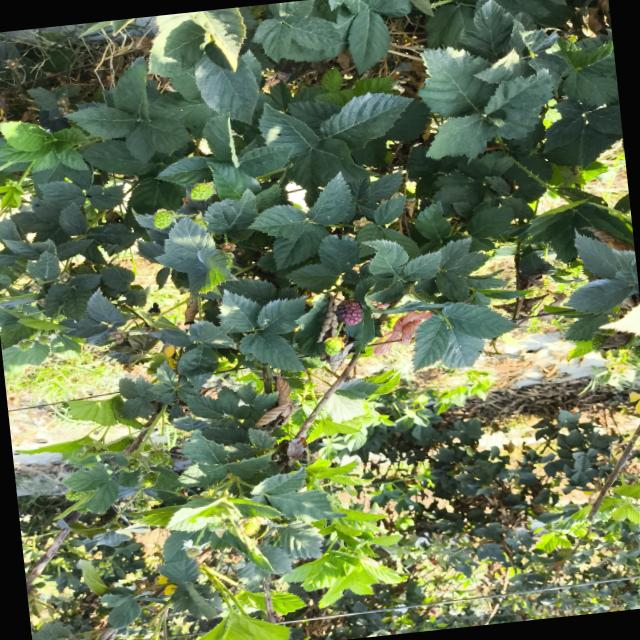marron: (336, 300, 362, 324)
verde: (153, 208, 174, 229), (189, 183, 213, 200), (324, 337, 343, 355)
